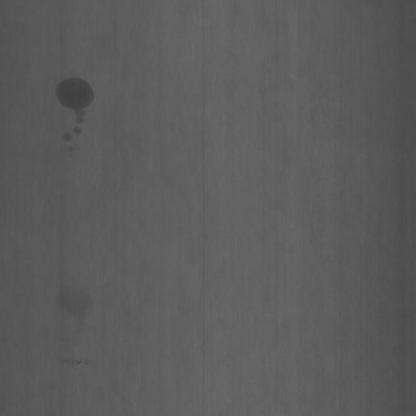oil_spot: (51, 61, 98, 131), (52, 348, 94, 370)
